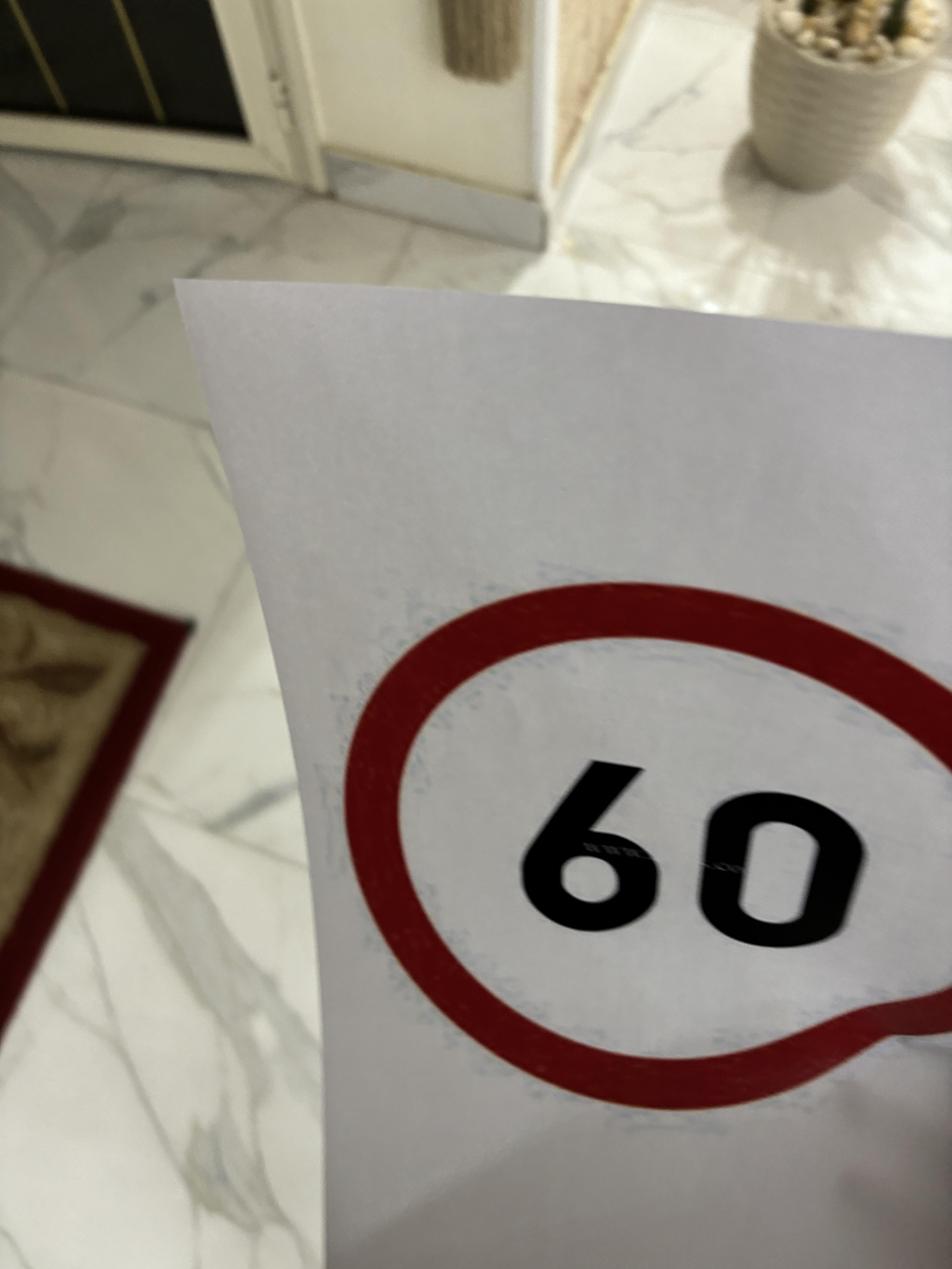60-Speed: (336, 554, 952, 1114)
